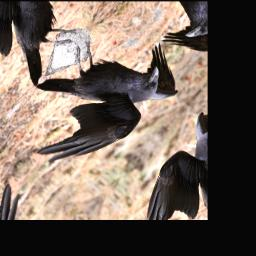Crow: (2, 3, 196, 196)
